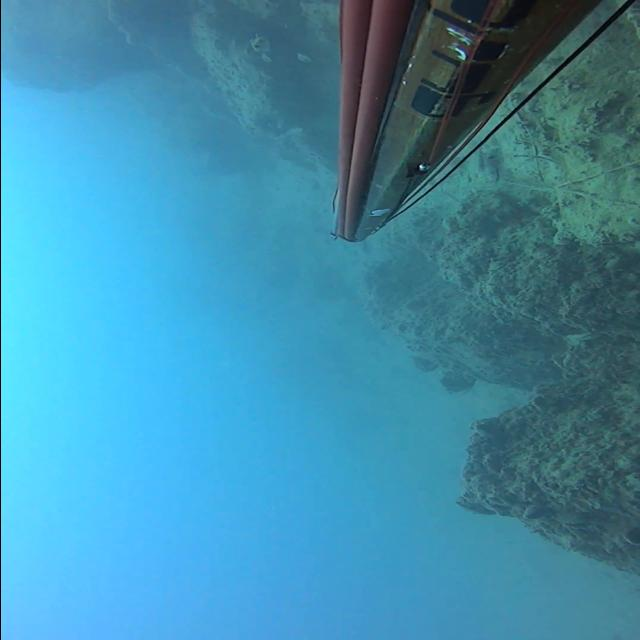Balon Baligi: (248, 34, 272, 62)
